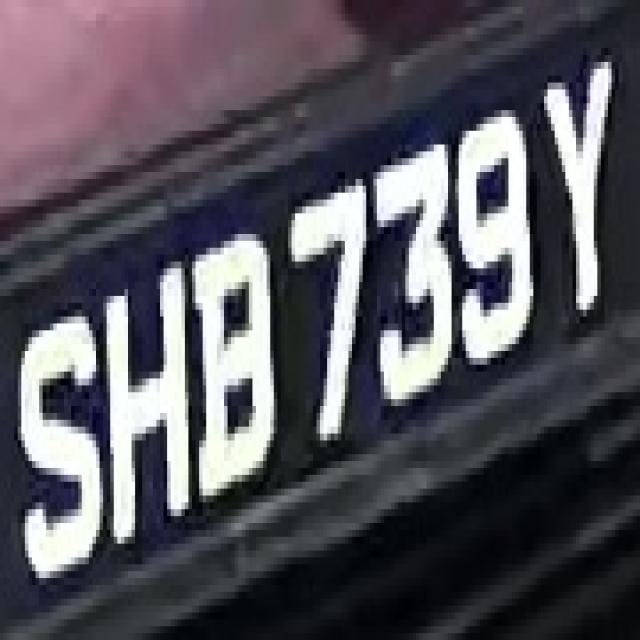3: (373, 124, 455, 427)
7: (284, 158, 366, 461)
9: (452, 90, 540, 372)
B: (192, 213, 284, 516)
H: (100, 248, 199, 557)
S: (18, 289, 106, 599)
Y: (540, 55, 622, 337)
